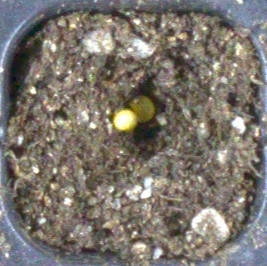chilli seed: (135, 95, 155, 123), (113, 110, 135, 130)
